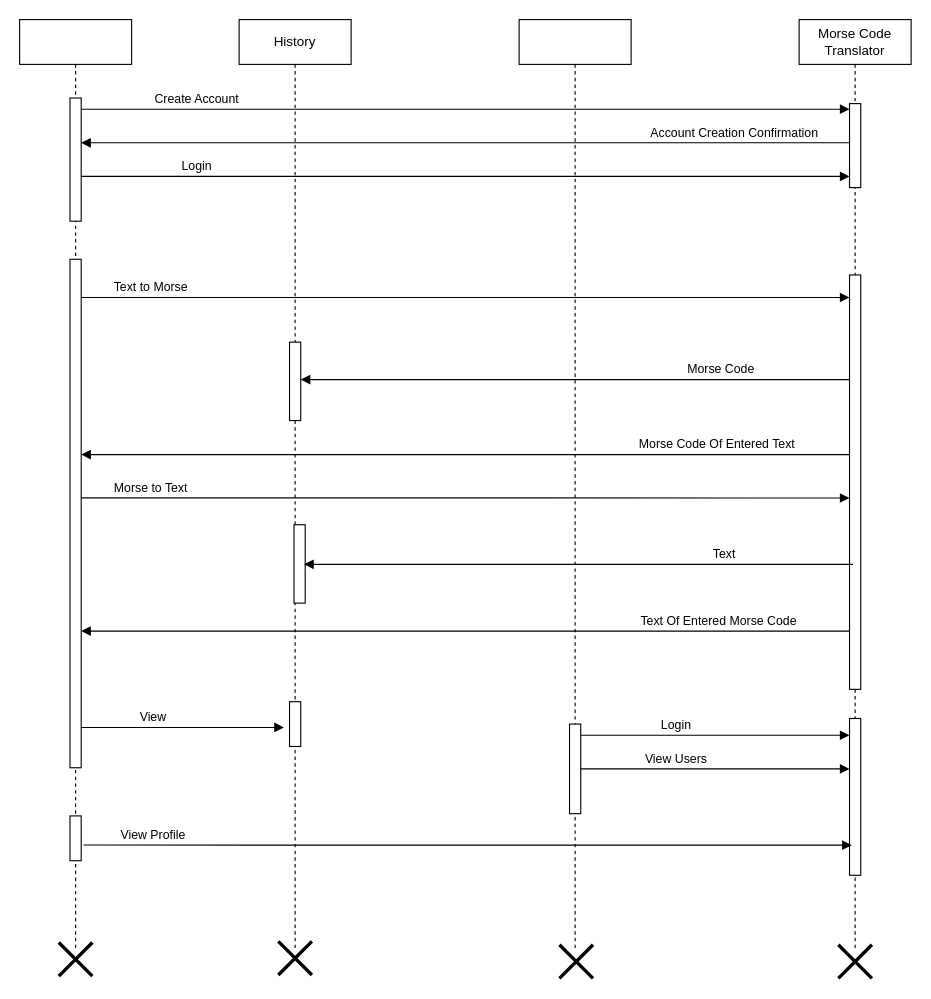
Image size: 931x999. Some labels were removed from this diagram. The shapes that lost their labels are listed below. From the top down, each one's box as (x1, y1, x2, y2) in pixels, then its label:
(18, 18, 132, 949): User
(518, 18, 631, 949): Admin
